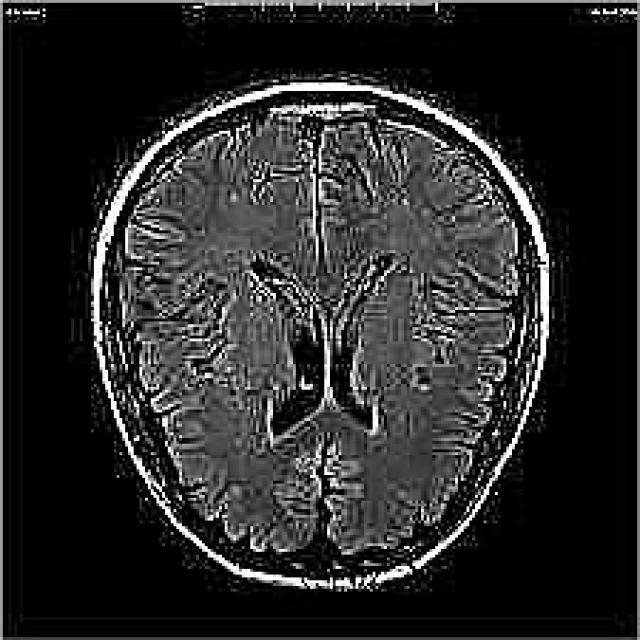notumor: (88, 91, 549, 592)
